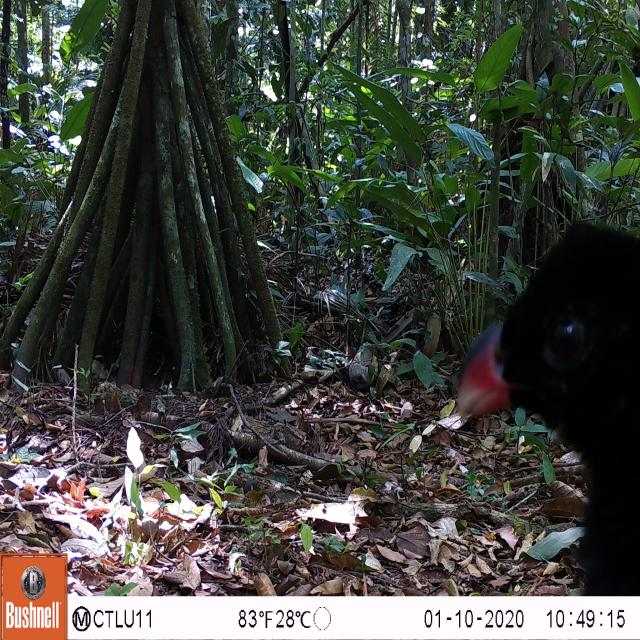Salvins Curassow: (426, 214, 640, 596)
